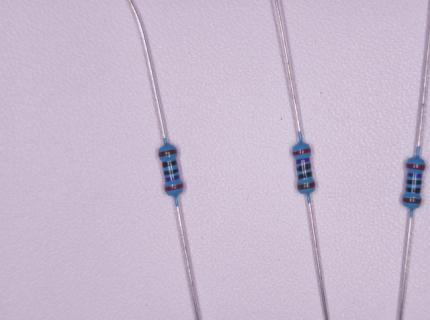Red band: (164, 183, 184, 191), (406, 163, 426, 171), (292, 148, 311, 156)
Violet band: (407, 172, 422, 179), (165, 175, 180, 182), (296, 158, 310, 164)
